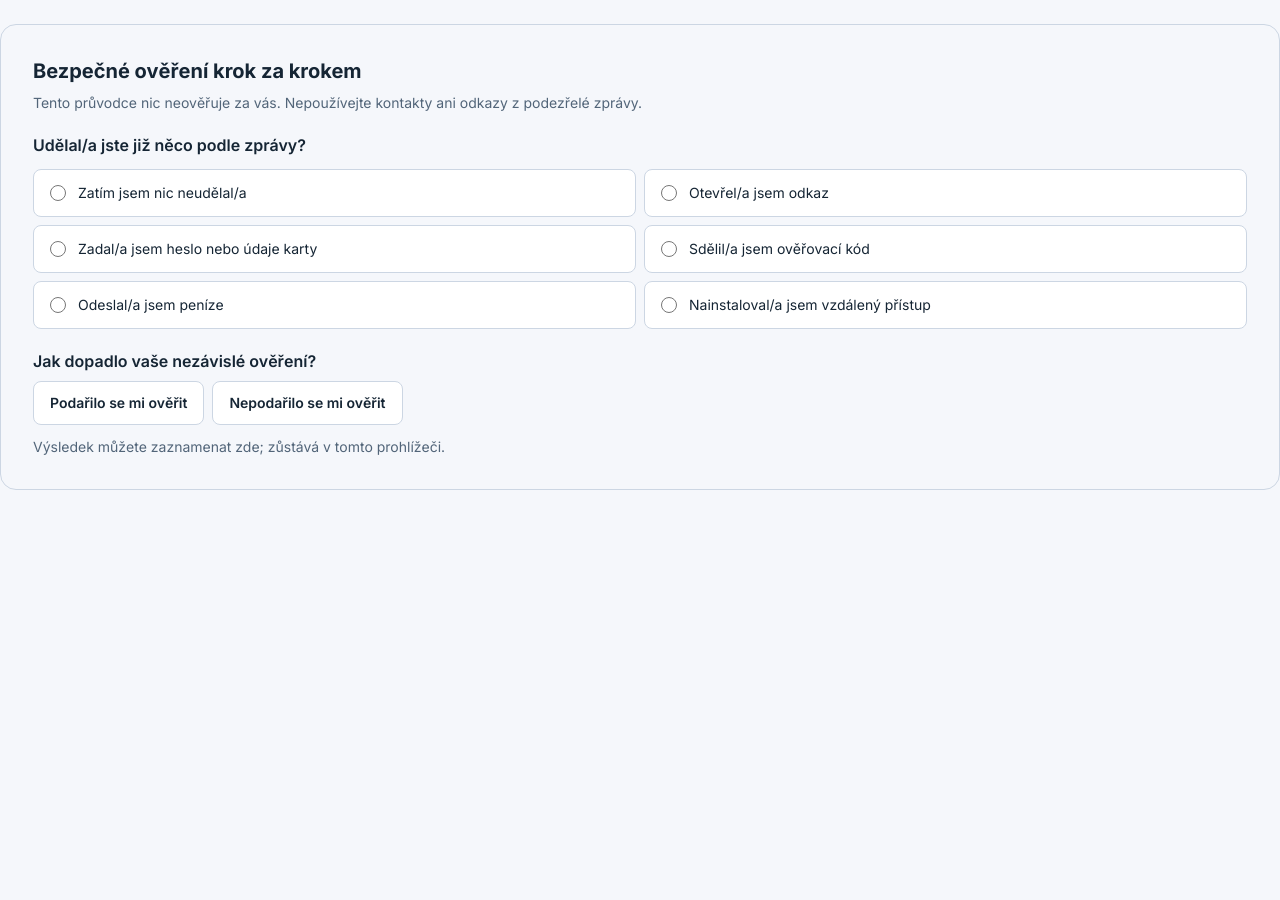
review and verification flow › changes guidance according to action already taken
Click the radio button labelled "Zatím jsem nic neudělal/a" at (58, 193), box [50,185,66,201]
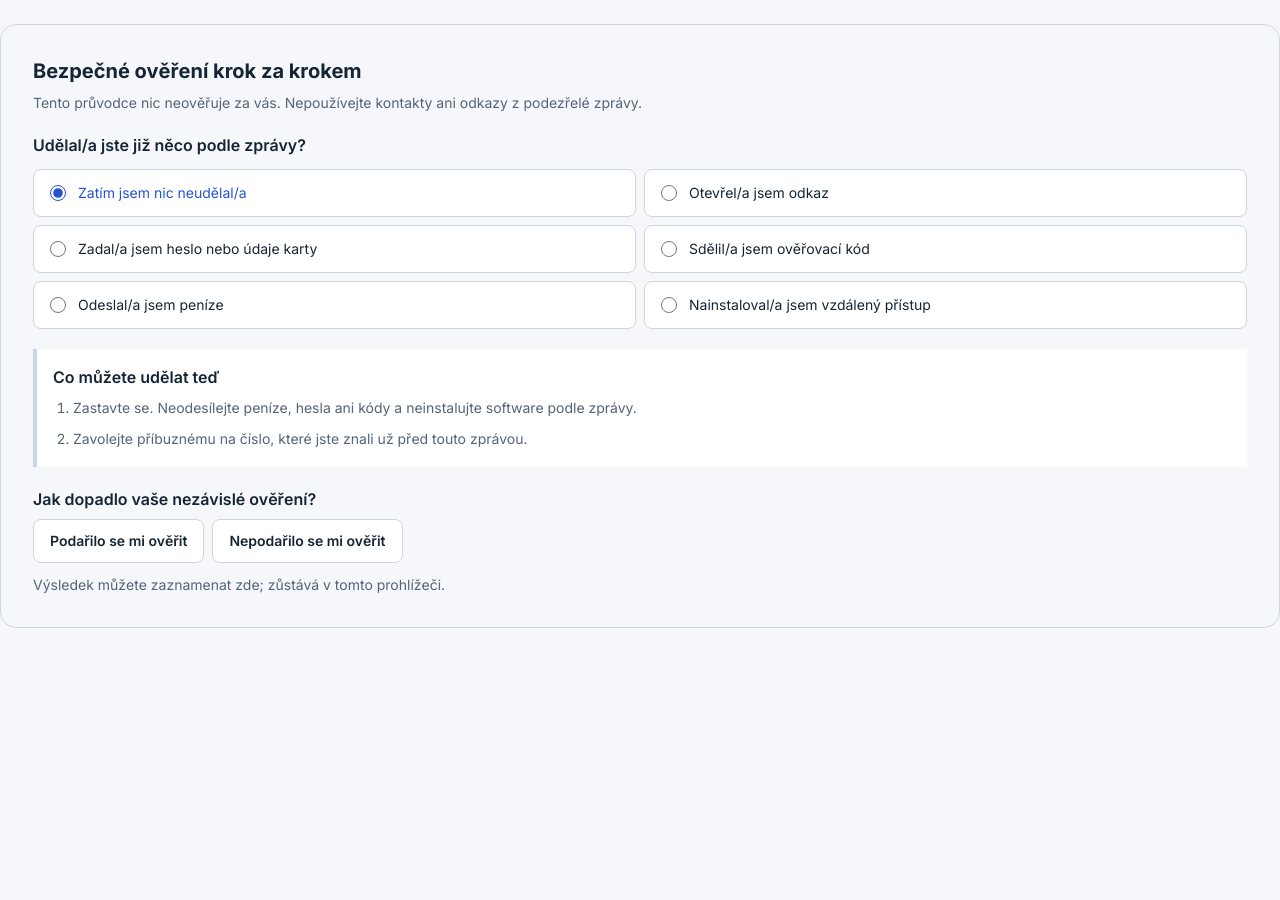
expect the text "Zavolejte příbuznému" is shown: met, box [73,430,528,447]
Click the radio button labelled "Odeslal/a jsem peníze" at (58, 305), box [50,297,66,313]
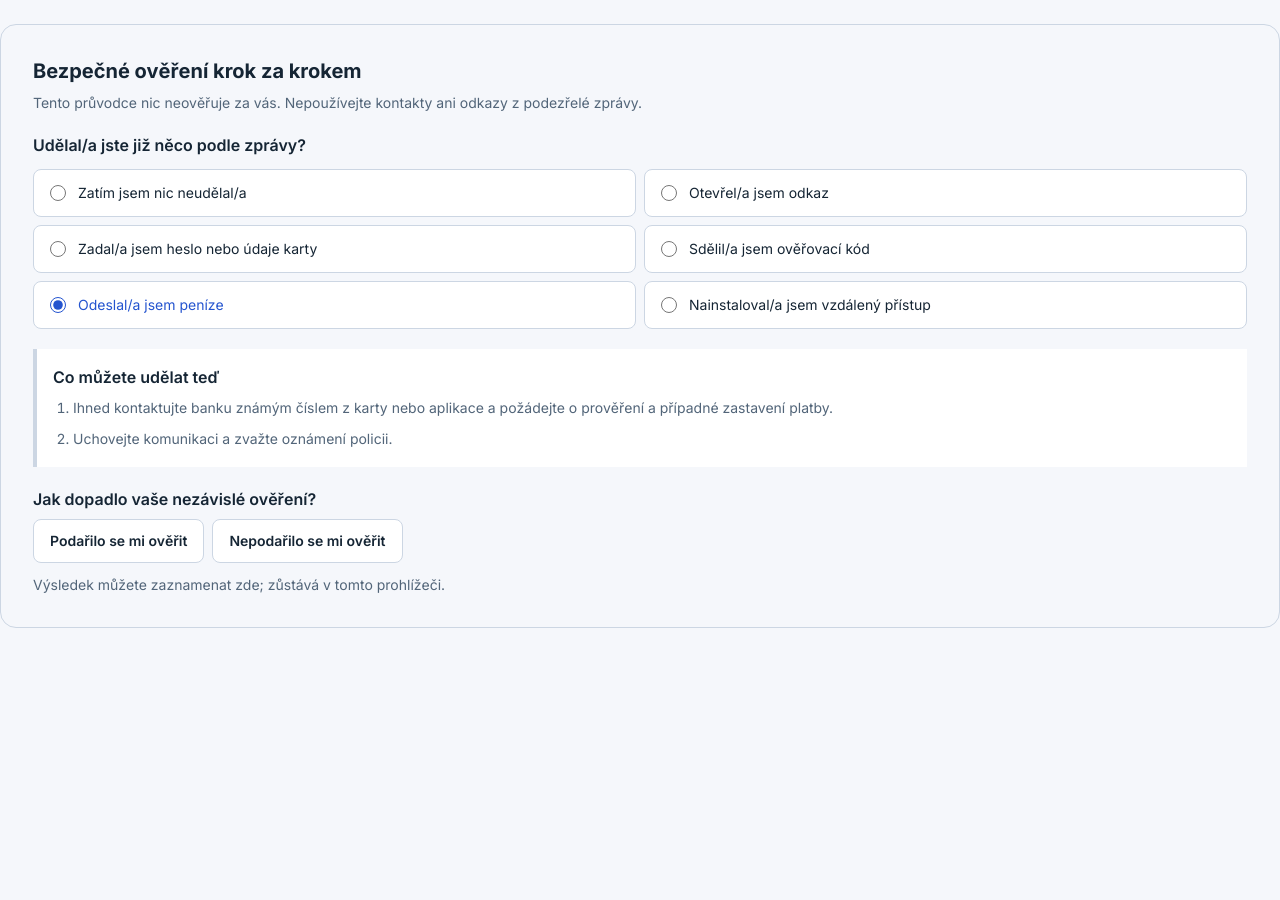
expect the text "případné zastavení platby" is shown: met, box [73,399,833,416]
expect the text "Zavolejte příbuznému" is gone: met
